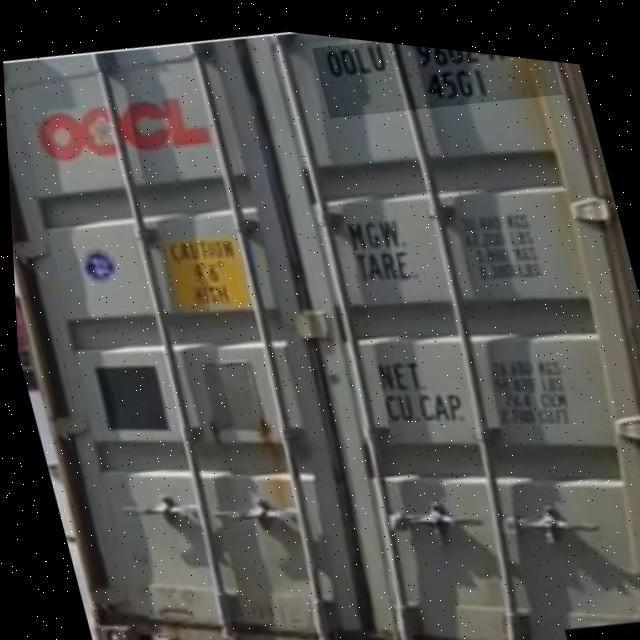container_number_h: (311, 27, 563, 130)
